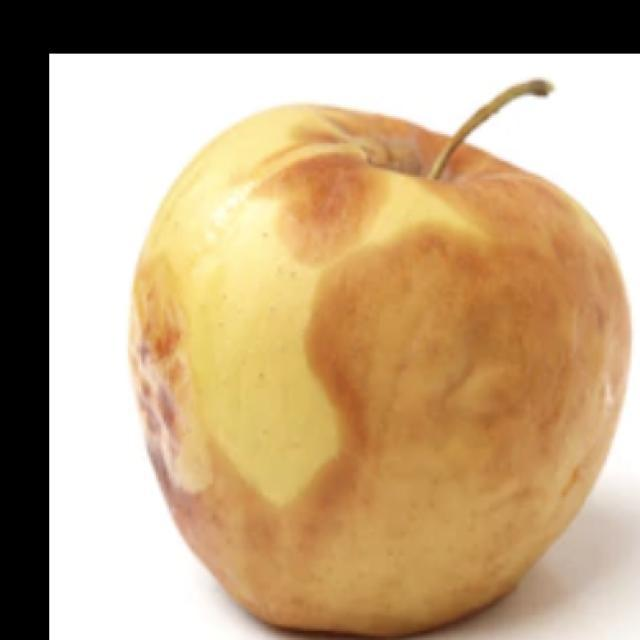Rotten: (160, 106, 635, 640)
